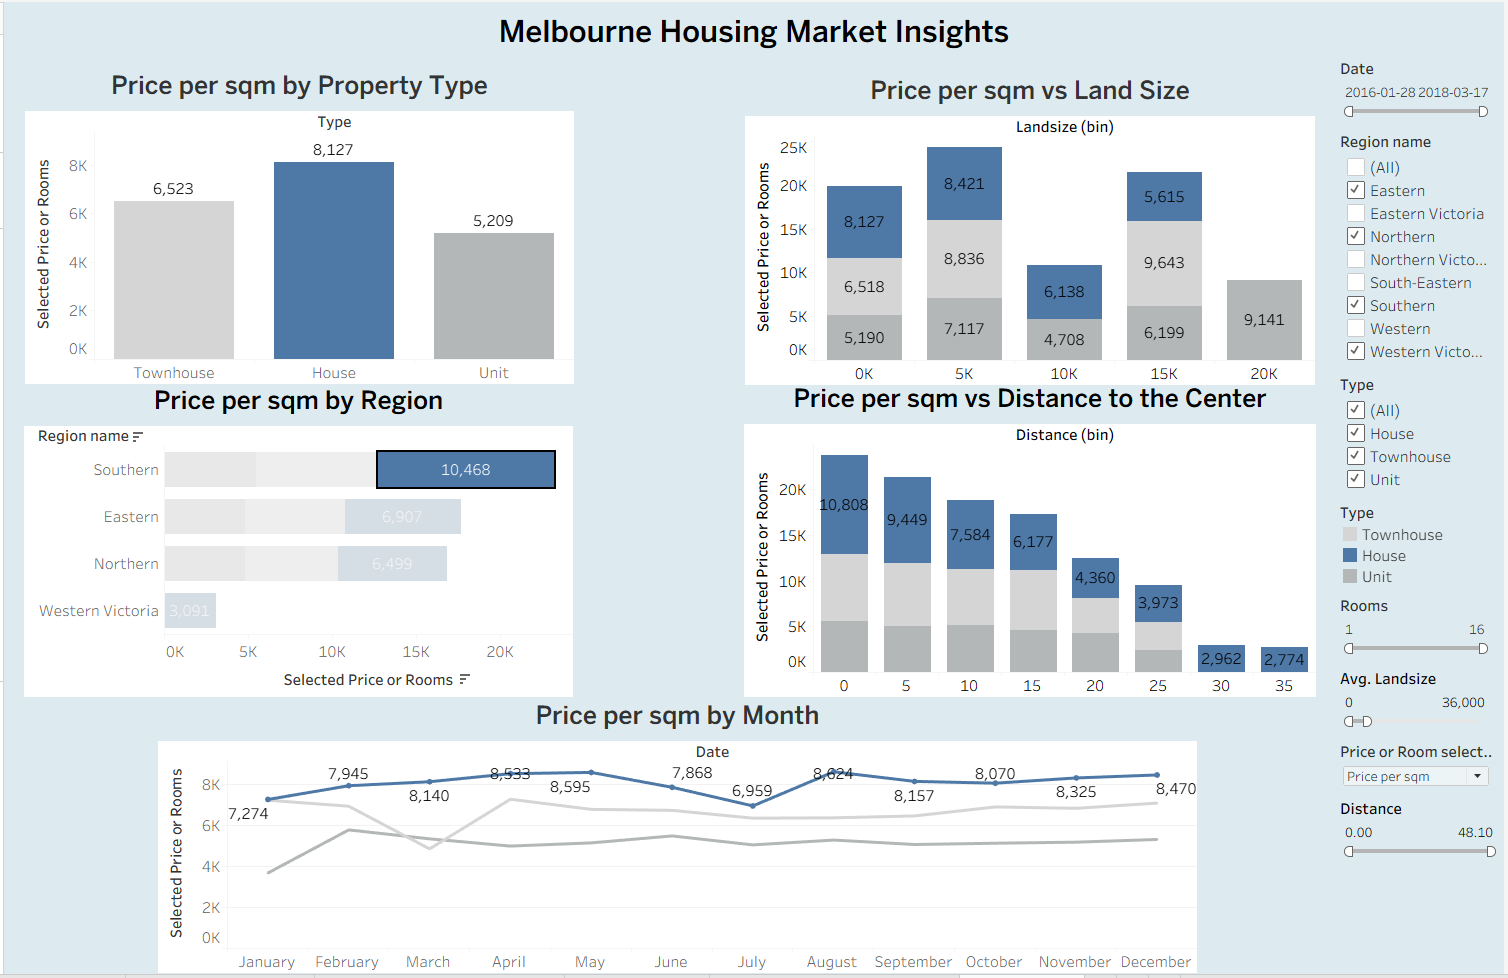

Layout of this report page (visuals, bound fields, positions):
{"tool":"tableau","page":{"name":"Dashboard 1","canvas":[1500,1000],"ordinal":0},"visuals":[{"type":"title","box":[8,8,1484,44]},{"type":"filter","title":"Monthly Trends in Housing Market","param":"[federated.14wge5a127vne60ztk9601bjcw3p].[none:Date:qk]","box":[1332,52,160,73]},{"type":"worksheet","title":"Average Housing Price by Property Type","mark":"Automatic","rows":["Selected Price Value (copy)_193091859359567878"],"cols":["Type"],"box":[21,64,549,318]},{"type":"worksheet","title":"Price vs Land Size","mark":"Bar","rows":["Selected Price Value (copy)_193091859359567878"],"cols":["Landsize (bin)"],"box":[741,69,570,314]},{"type":"filter","title":"Average Housing Price by Property Type","param":"[federated.14wge5a127vne60ztk9601bjcw3p].[none:Regionname:nk]","box":[1332,125,160,243]},{"type":"filter","title":"Average Price by Region","param":"[federated.14wge5a127vne60ztk9601bjcw3p].[none:Type:nk]","box":[1332,368,160,128]},{"type":"worksheet","title":"Price vs Distance to CBD per Type","mark":"Automatic","rows":["Selected Price Value (copy)_193091859359567878"],"cols":["Distance (bin)"],"box":[740,377,572,318]},{"type":"worksheet","title":"Average Price by Region","mark":"Bar","rows":["Regionname"],"cols":["Selected Price Value (copy)_193091859359567878"],"box":[20,379,549,316]},{"type":"legend","title":"Average Housing Price by Property Type","param":"[federated.14wge5a127vne60ztk9601bjcw3p].[none:Type:nk]","box":[1332,496,160,93]},{"type":"filter","title":"Average Housing Price by Property Type","param":"[federated.14wge5a127vne60ztk9601bjcw3p].[none:Rooms:qk]","box":[1332,589,160,73]},{"type":"filter","title":"Price vs Land Size","param":"[federated.14wge5a127vne60ztk9601bjcw3p].[avg:Landsize:qk]","box":[1332,662,160,73]},{"type":"worksheet","title":"Monthly Trends in Housing Market","mark":"Line","rows":["Selected Price Value (copy)_193091859359567878"],"cols":["Date"],"box":[154,694,1039,277]},{"type":"parameter","param":"[Parameters].[Price Metric (copy)_193091859359342597]","box":[1332,735,160,56]},{"type":"filter","title":"Price vs Distance to CBD per Type","param":"[federated.14wge5a127vne60ztk9601bjcw3p].[none:Distance:qk]","box":[1336,796,160,65]}]}

Visuals, with their boxes in screenshot pixels (x1, y1, x2, y2), scaled from the page's 1500x1000 canvas onto the 1508x978 screenshot:
title: x1=8 y1=8 x2=1500 y2=51
"Monthly Trends in Housing Market" filter: x1=1339 y1=51 x2=1500 y2=122
"Average Housing Price by Property Type" worksheet: x1=21 y1=63 x2=573 y2=374
"Price vs Land Size" worksheet (Bar marks): x1=745 y1=67 x2=1318 y2=375
"Average Housing Price by Property Type" filter: x1=1339 y1=122 x2=1500 y2=360
"Average Price by Region" filter: x1=1339 y1=360 x2=1500 y2=485
"Price vs Distance to CBD per Type" worksheet: x1=744 y1=369 x2=1319 y2=680
"Average Price by Region" worksheet (Bar marks): x1=20 y1=371 x2=572 y2=680
"Average Housing Price by Property Type" legend: x1=1339 y1=485 x2=1500 y2=576
"Average Housing Price by Property Type" filter: x1=1339 y1=576 x2=1500 y2=647
"Price vs Land Size" filter: x1=1339 y1=647 x2=1500 y2=719
"Monthly Trends in Housing Market" worksheet (Line marks): x1=155 y1=679 x2=1199 y2=950
parameter: x1=1339 y1=719 x2=1500 y2=774
"Price vs Distance to CBD per Type" filter: x1=1343 y1=778 x2=1504 y2=842
